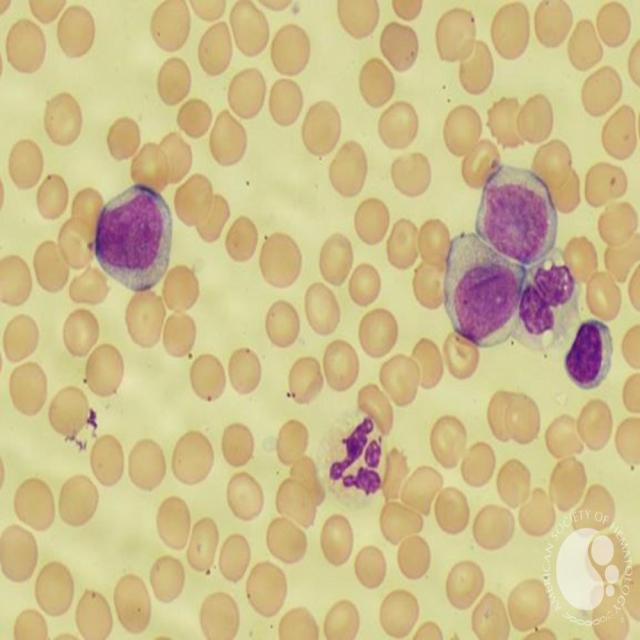ALL Positive Cell: (438, 226, 533, 351), (95, 183, 182, 308), (474, 166, 563, 268), (325, 411, 391, 507), (517, 268, 573, 377), (560, 315, 611, 411)
